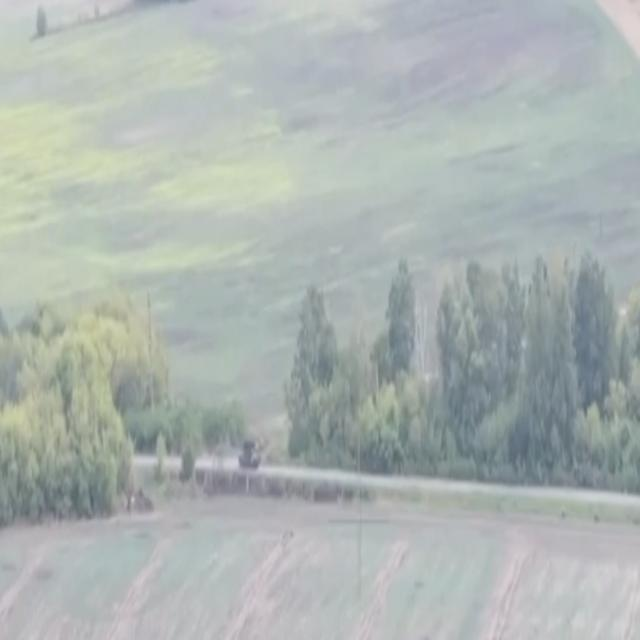vehicle: (238, 432, 261, 469)
